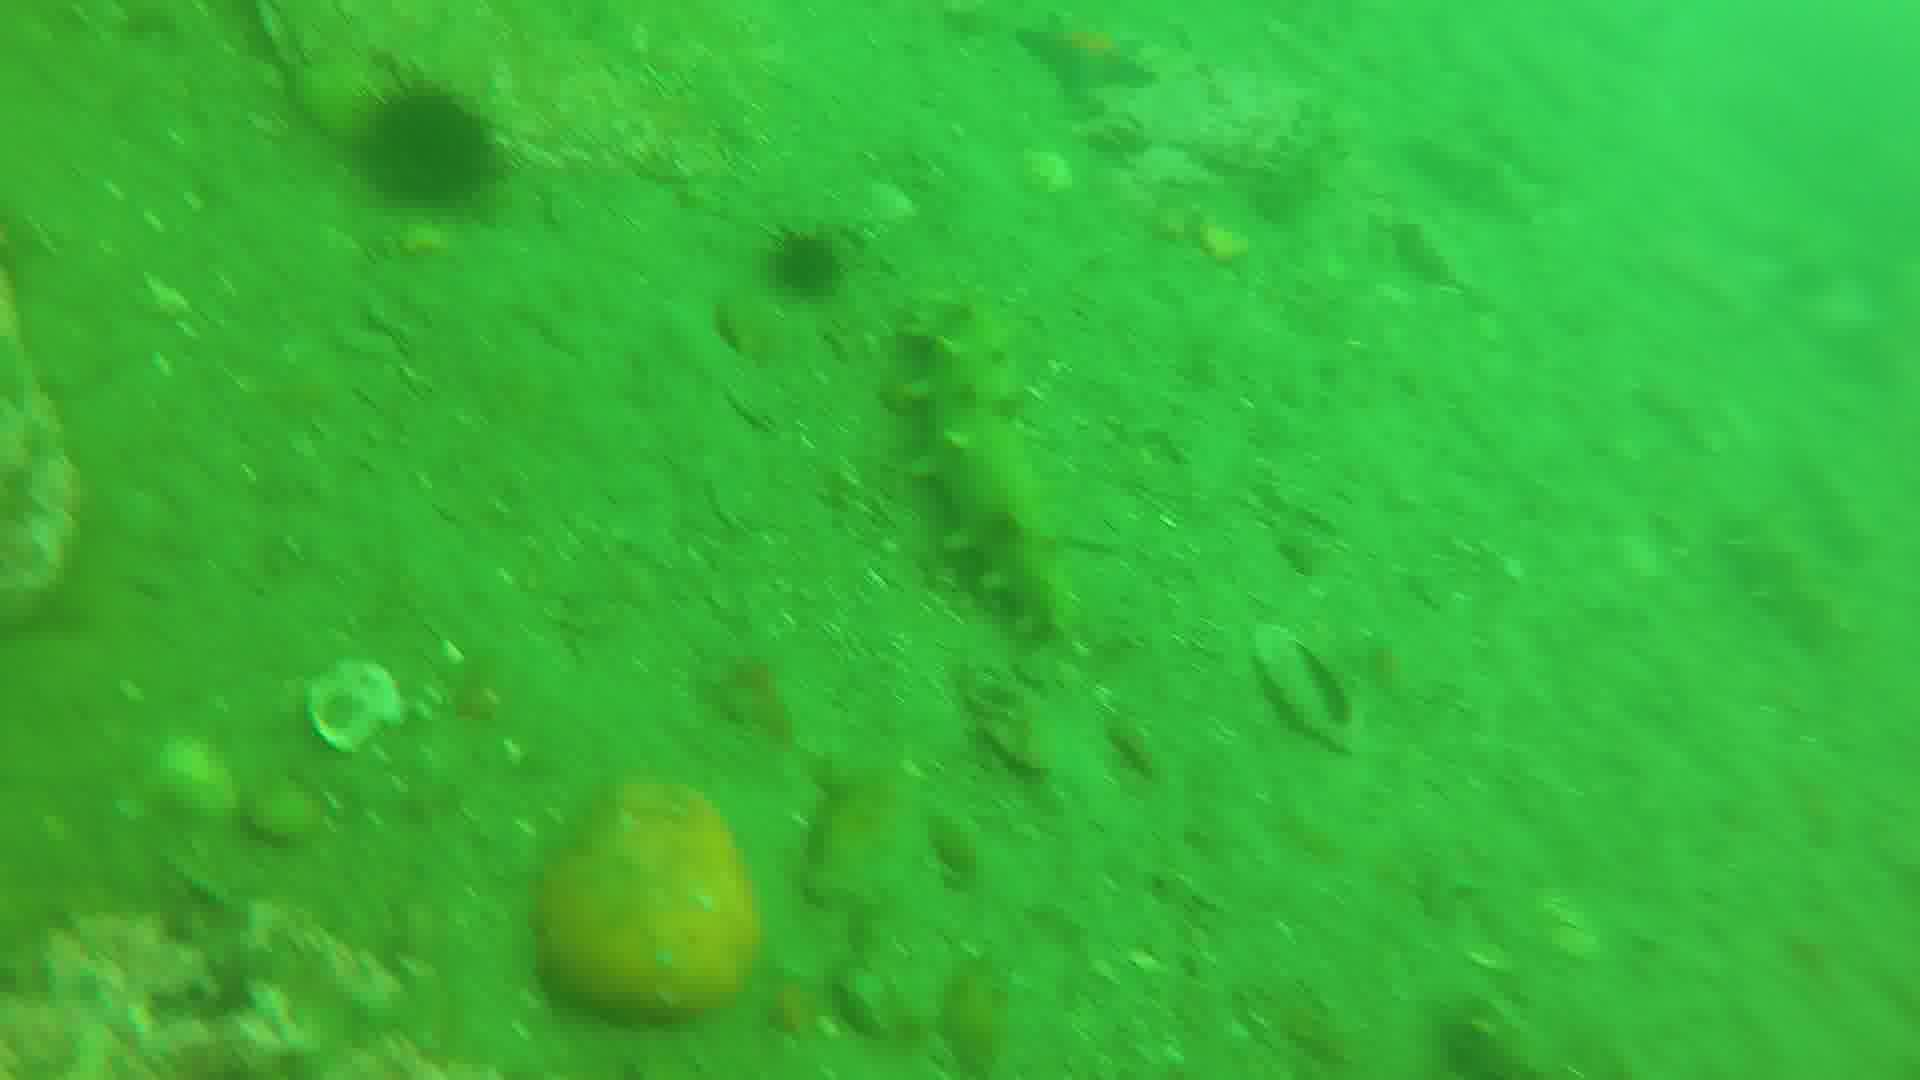echinus: (368, 79, 488, 219), (757, 232, 843, 302)
holothurian: (909, 298, 1069, 637), (1708, 484, 1854, 645), (1250, 75, 1336, 235)
starfish: (1025, 11, 1154, 108)
